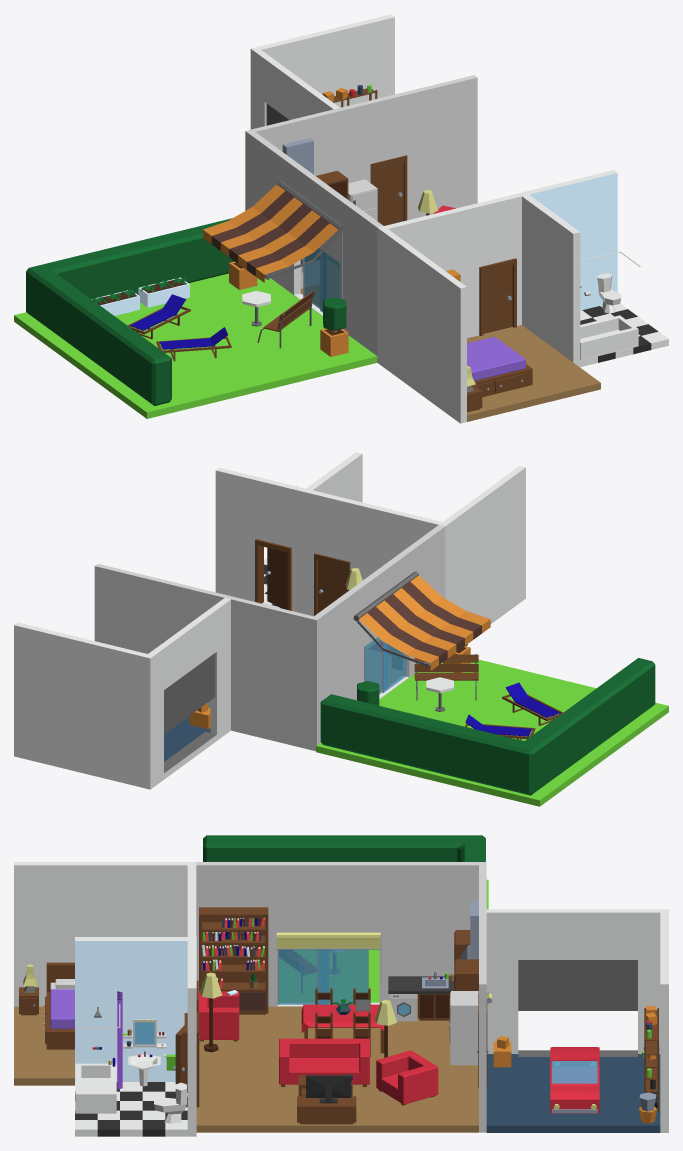
Rendered from isometric_low_poly_house.glb.
The picture shows the model from 3 angles, top to bottom: view 1: azimuth 30°, elevation 25°; view 2: azimuth 150°, elevation 25°; view 3: azimuth 270°, elevation 25°; orthographic projection. The views are drawn at different scales.
Visible parts, largest first — view 1: jardi, livingroom, bedroom, WC, garaje, doorbedroom, doorgarage, doorgarden01, doorgarden02; view 2: jardi, livingroom, garaje, bedroom, WC, doorext, doorwc, doorbedroom, doorgarden01, doorgarden02; view 3: livingroom, garaje, WC, bedroom, jardi, doorext, doorgarden02, doorgarden01, doorwc.
Part boxes in pixels (x1,y1,x2,y2): jardi: (14,180,377,418); livingroom: (245,75,477,355); bedroom: (377,193,600,423); WC: (518,170,668,367); garaje: (250,14,394,129); doorbedroom: (483,265,512,333); doorgarage: (373,161,403,225); doorgarden01: (303,248,326,309); doorgarden02: (320,249,340,312); jardi: (316,571,668,806); livingroom: (94,525,445,751); garaje: (14,598,230,789); bedroom: (308,466,525,623); WC: (215,452,362,614); doorext: (164,653,215,734); doorwc: (266,547,287,609); doorbedroom: (318,560,346,612); doorgarden01: (364,637,386,694); doorgarden02: (382,641,405,692); livingroom: (196,862,487,1132); garaje: (486,909,668,1132); WC: (75,937,199,1136); bedroom: (14,862,198,1085); jardi: (203,835,488,1002); doorext: (518,960,637,1010); doorgarden02: (277,949,328,1004); doorgarden01: (317,949,368,1004); doorwc: (173,1025,184,1098).
Size of the model in its own units: 13.75 by 3.8 by 15.22.
